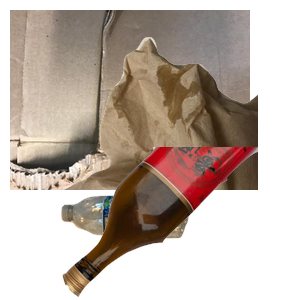cardboard: (10, 10, 250, 190)
glass: (60, 147, 300, 300)
plastic: (59, 193, 241, 300)
trash: (60, 35, 300, 215)
